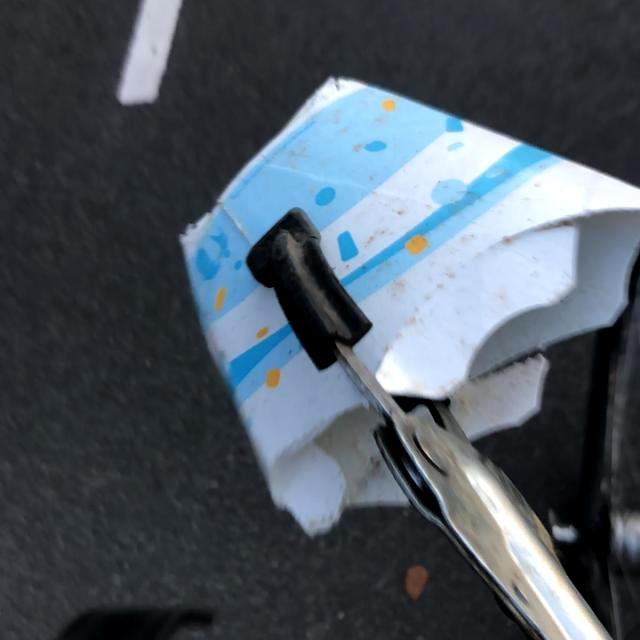Paper: (172, 64, 640, 542)
